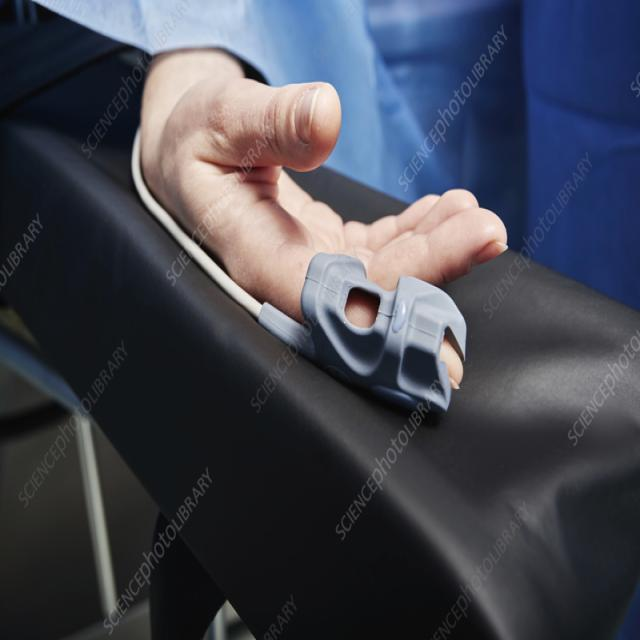oximeter: (264, 208, 483, 432)
